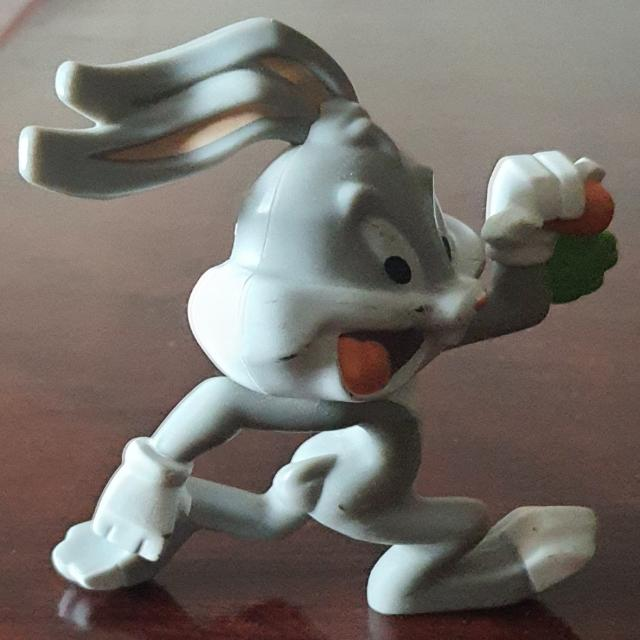Rabbit: (17, 17, 618, 616)
